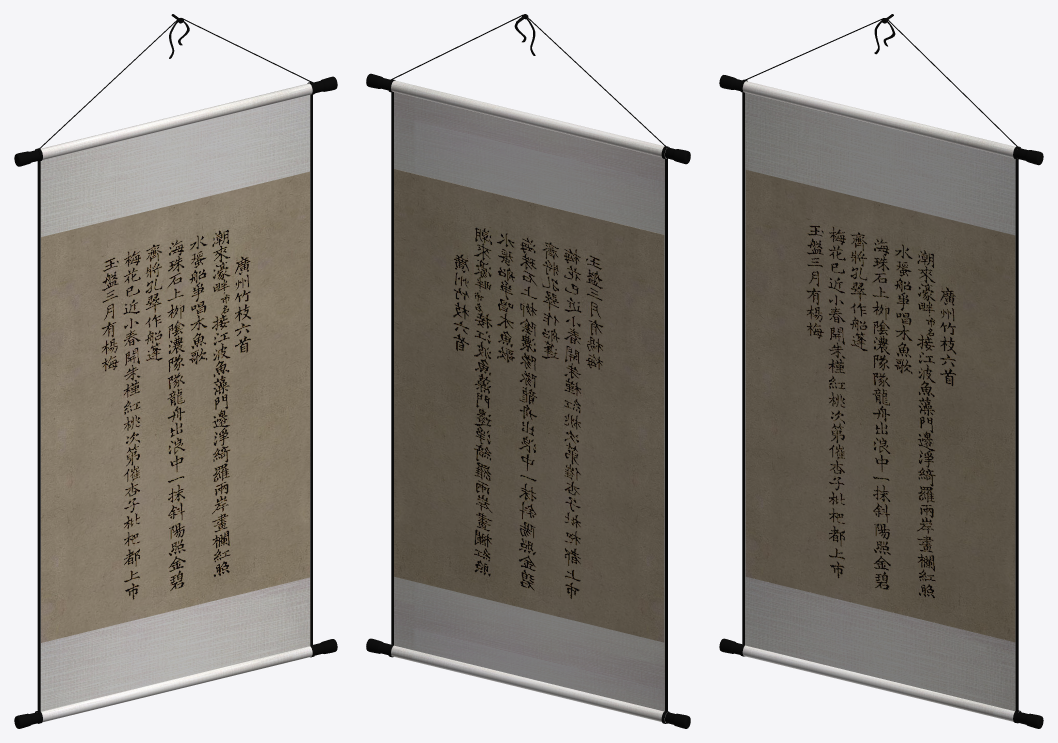
Rendered from QD-清代书法字.fbx.
3 renders of one model, left to right at view 1: azimuth 30°, elevation 25°; view 2: azimuth 150°, elevation 25°; view 3: azimuth 330°, elevation 25°, orthographic.
Visible parts, largest first — view 1: QD-清代书法字; view 2: QD-清代书法字; view 3: QD-清代书法字.
Boxes of the visible parts, x1,y1,x2,y2 form: QD-清代书法字: (14,14,337,728); QD-清代书法字: (366,14,690,728); QD-清代书法字: (719,14,1043,728).
Bounding box in the file's own units: 0.7662 × 0.0429 × 1.54.
